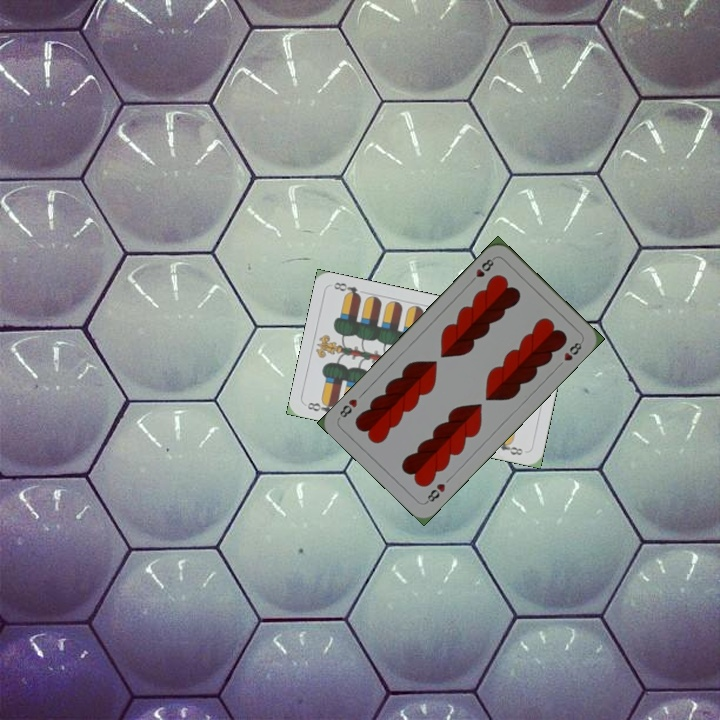E8: (303, 397, 340, 416)
H8: (466, 254, 498, 286), (422, 479, 448, 506)
